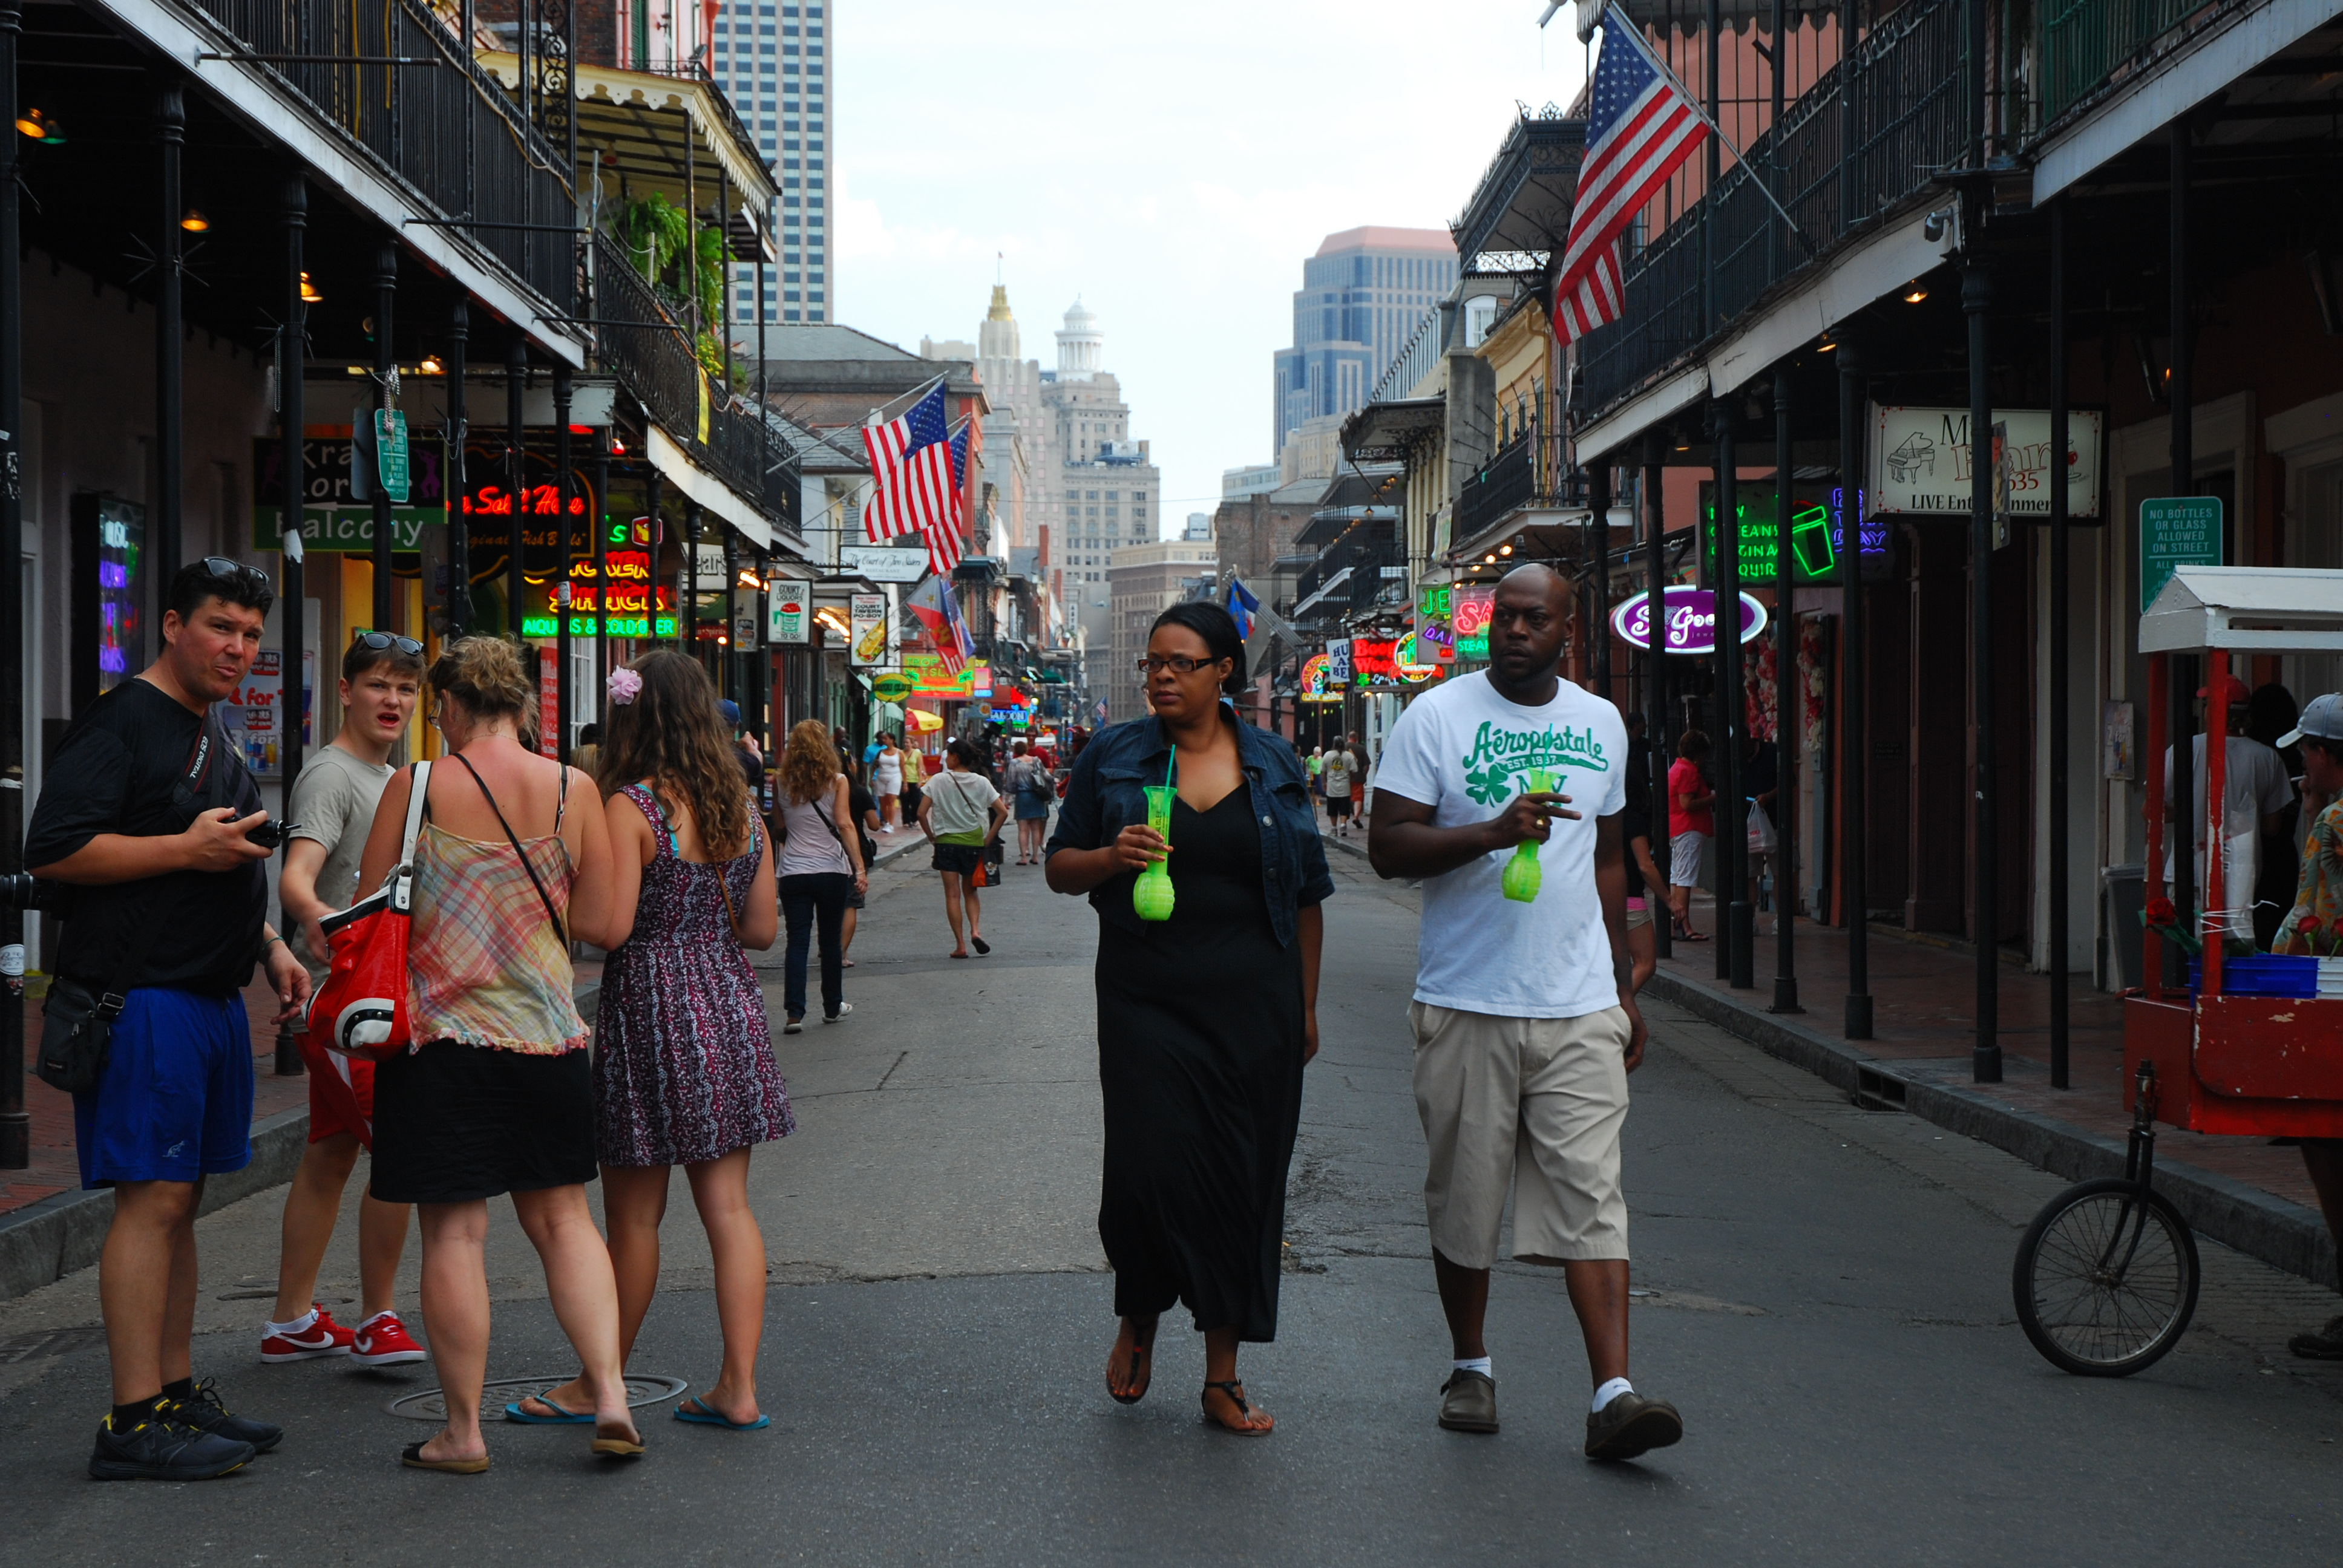person: (1346, 541, 1719, 1479), (18, 529, 304, 1534), (335, 629, 655, 1500), (1037, 588, 1344, 1447), (512, 642, 816, 1435), (268, 608, 430, 1382), (758, 719, 883, 1036), (920, 741, 1003, 965)
